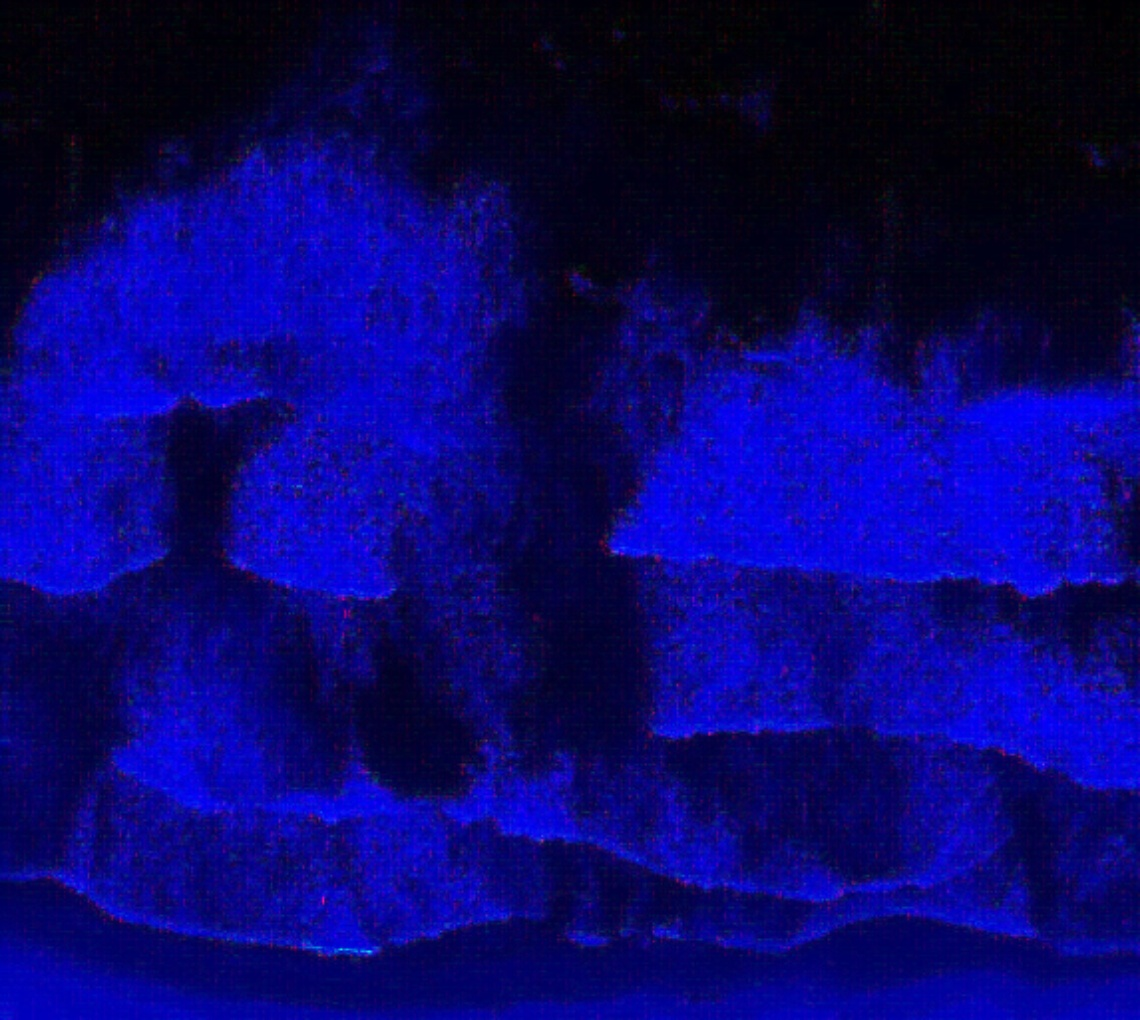rip_current: (395, 104, 725, 921)
